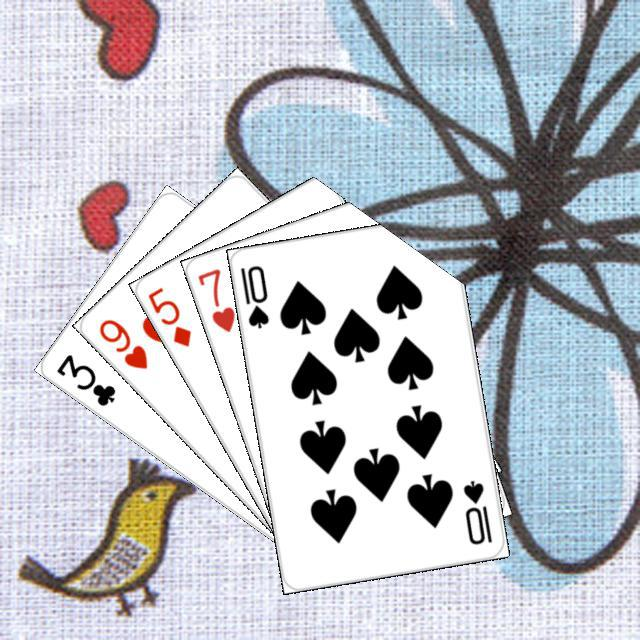10s: (235, 260, 271, 330), (458, 476, 493, 547)
3c: (51, 349, 118, 408)
5d: (143, 282, 193, 349)
7h: (192, 263, 237, 334)
9h: (94, 314, 150, 371)
